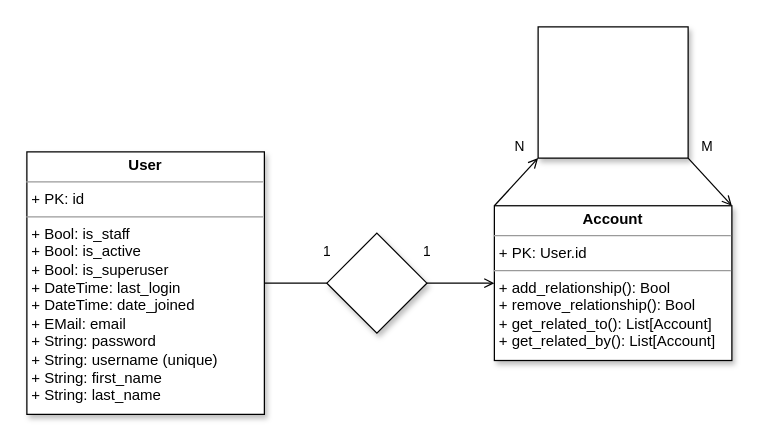
Image size: 764x445. Some labels were removed from this diagram. Here are the shapes that lost their labels. From the top down, the centre of each, then its label:
[614,94]: Relationship + FK: Account.id + FK: Account.id + DateTime: created
[377,284]: owns
